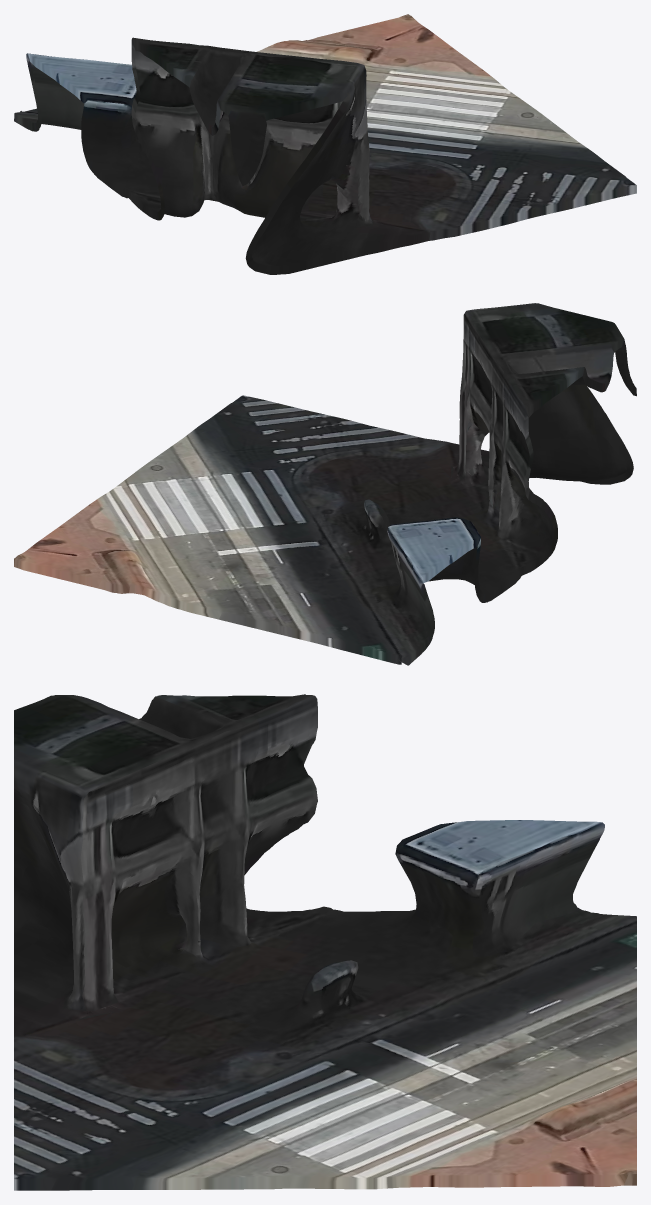
File: z20-167784-405227-h0-yup-uvflip-v3-world.glb
The picture shows the model from 3 angles, top to bottom: view 1: azimuth 30°, elevation 25°; view 2: azimuth 150°, elevation 25°; view 3: azimuth 270°, elevation 25°; orthographic projection. The views are drawn at different scales.
Bounding box in the file's own units: 30.2 × 12.68 × 30.32.
1 material, 1 textured.
